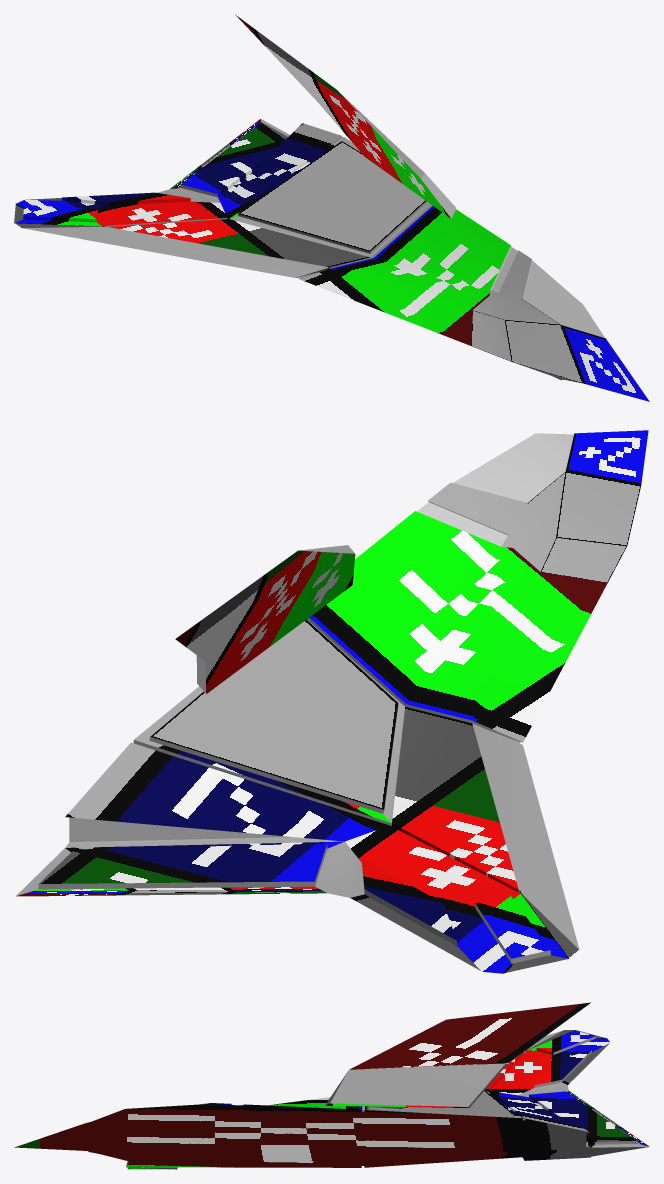
Rendered from fighter+z+y.obj.
3 views of the same model, one above another, from view 1: azimuth 30°, elevation 25°; view 2: azimuth 150°, elevation 25°; view 3: azimuth 270°, elevation 25° (orthographic). The views are drawn at different scales.
Parts seen in each view (by area): view 1: Aircraft; view 2: Aircraft; view 3: Aircraft.
Part boxes in pixels (box(x1,y1,x2,y2)): Aircraft: box(14, 14, 649, 401); Aircraft: box(16, 430, 648, 973); Aircraft: box(14, 1002, 649, 1169).
Size of the model in its own units: 1.01 by 0.5556 by 2.28.
